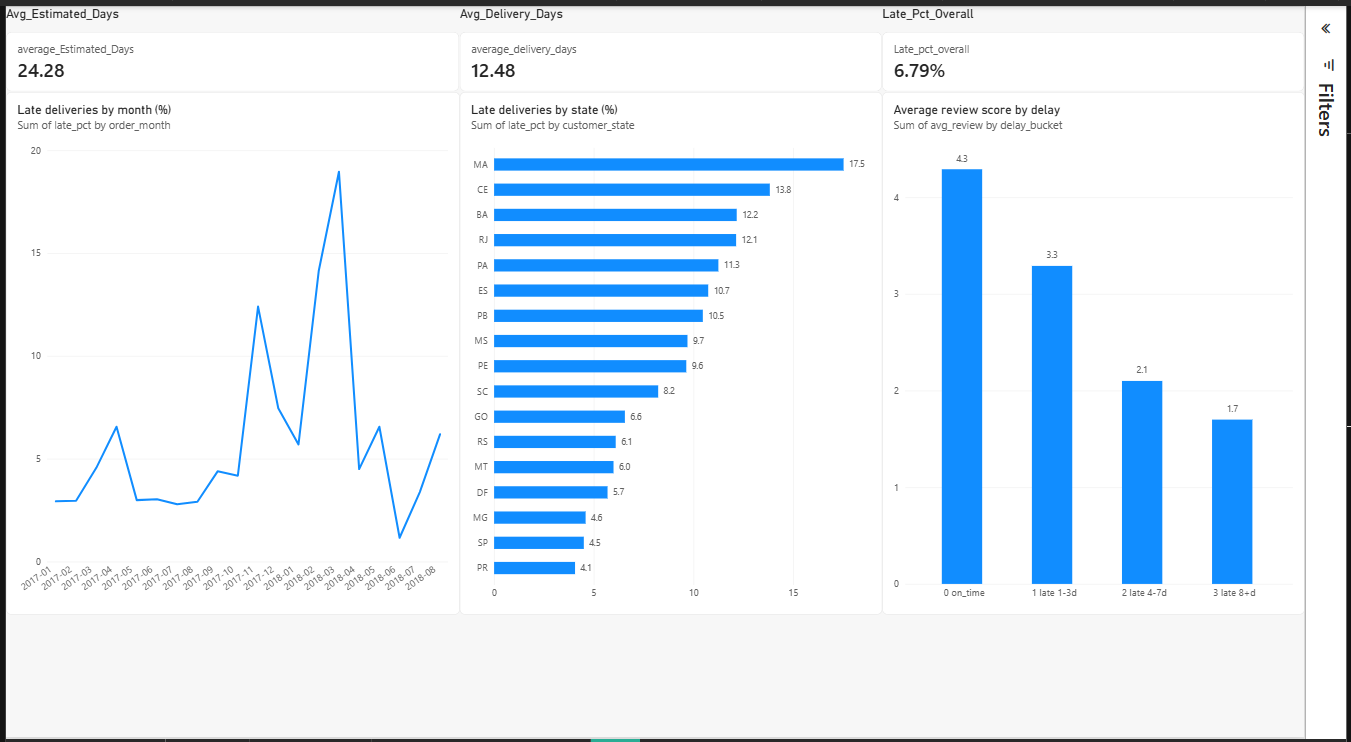

Layout of this report page (visuals, bound fields, positions):
{"tool":"powerbi","page":{"name":"Delivery and Satisfaction","canvas":[1920,1080],"ordinal":2},"visuals":[{"type":"cardVisual","title":"Late_Pct_Overall","fields":{"Data":["public vw_monthly_delivery.Late_pct_overall"]},"box":[1279,0,641.4,125.7],"z":0},{"type":"cardVisual","title":"Avg_Delivery_Days","fields":{"Data":["public vw_monthly_delivery.average_delivery_days"]},"box":[597,0,682,125.7],"z":1},{"type":"cardVisual","title":"Avg_Estimated_Days","fields":{"Data":["public vw_monthly_delivery.average_Estimated_Days"]},"box":[0,0,597,125.7],"z":2},{"type":"lineChart","title":"Late deliveries by month (%)","fields":{"Category":["public vw_monthly_delivery.order_month"],"Y":["Sum(public vw_monthly_delivery.late_pct)"]},"box":[0,125.7,670.9,772.6],"z":3},{"type":"clusteredBarChart","title":"Late deliveries by state (%)","fields":{"Category":["public vw_delivery_by_state.customer_state"],"Y":["Sum(public vw_delivery_by_state.late_pct)"]},"box":[670.9,125.7,624.7,772.6],"z":4},{"type":"lineClusteredColumnComboChart","title":"Average review score by delay","fields":{"Category":["public vw_review_by_delay.delay_bucket"],"Y":["Sum(public vw_review_by_delay.avg_review)"]},"box":[1279,125.7,641.4,772.6],"z":5}]}

Visuals, with their boxes on the page's 1920x1080 design canvas (x1, y1, x2, y2). These are canvas units, not pixel positions in the 1351x742 screenshot, which may show the page scaled, cropped or inside an application window:
"Late_Pct_Overall" cardVisual: bbox=[1279, 0, 1920, 126]
"Avg_Delivery_Days" cardVisual: bbox=[597, 0, 1279, 126]
"Avg_Estimated_Days" cardVisual: bbox=[0, 0, 597, 126]
"Late deliveries by month (%)" lineChart: bbox=[0, 126, 671, 898]
"Late deliveries by state (%)" clusteredBarChart: bbox=[671, 126, 1296, 898]
"Average review score by delay" lineClusteredColumnComboChart: bbox=[1279, 126, 1920, 898]
